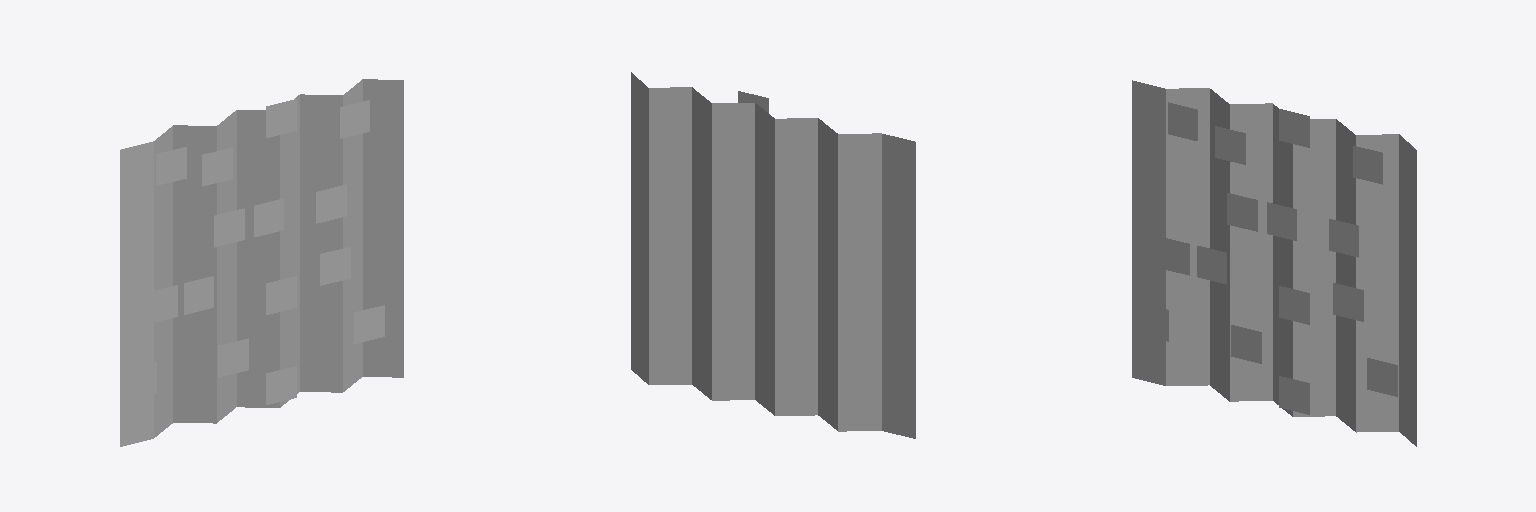
Rendered from farm2d.obj.
3 renders of one model, left to right at view 1: azimuth 30°, elevation 25°; view 2: azimuth 150°, elevation 25°; view 3: azimuth 330°, elevation 25°, orthographic.
Parts seen in each view (by area): view 1: Plane, Plane.009, Plane.003, Plane.007, Plane.011, Plane.012, Plane.015, Plane.001, Plane.005, Plane.008, Plane.013, Plane.014 (+5 smaller); view 2: Plane; view 3: Plane, Plane.005, Plane.009, Plane.013, Plane.014, Plane.011, Plane.012, Plane.003, Plane.004, Plane.007, Plane.008, Plane.001 (+5 smaller).
Part boxes in pixels (left/top/right/bottom): Plane: left=120, top=79, right=403, bottom=446; Plane.009: left=266, top=99, right=296, bottom=137; Plane.003: left=147, top=285, right=177, bottom=323; Plane.007: left=214, top=208, right=244, bottom=247; Plane.011: left=266, top=276, right=296, bottom=314; Plane.012: left=266, top=366, right=296, bottom=404; Plane.015: left=316, top=184, right=346, bottom=223; Plane.001: left=156, top=147, right=186, bottom=185; Plane.005: left=218, top=338, right=248, bottom=377; Plane.008: left=202, top=147, right=232, bottom=186; Plane.013: left=354, top=305, right=384, bottom=343; Plane.014: left=320, top=247, right=350, bottom=285; Plane: left=631, top=72, right=915, bottom=438; Plane: left=1132, top=80, right=1416, bottom=446; Plane.005: left=1231, top=325, right=1261, bottom=363; Plane.009: left=1279, top=109, right=1309, bottom=147; Plane.013: left=1367, top=358, right=1397, bottom=396; Plane.014: left=1333, top=283, right=1363, bottom=321; Plane.011: left=1279, top=286, right=1309, bottom=324; Plane.012: left=1279, top=376, right=1309, bottom=414; Plane.003: left=1159, top=236, right=1189, bottom=275; Plane.004: left=1138, top=303, right=1168, bottom=341; Plane.007: left=1227, top=193, right=1257, bottom=231; Plane.008: left=1215, top=126, right=1245, bottom=164; Plane.001: left=1168, top=102, right=1197, bottom=140.
Size of the model in its own units: 1.33 by 1.36 by 0.0982.